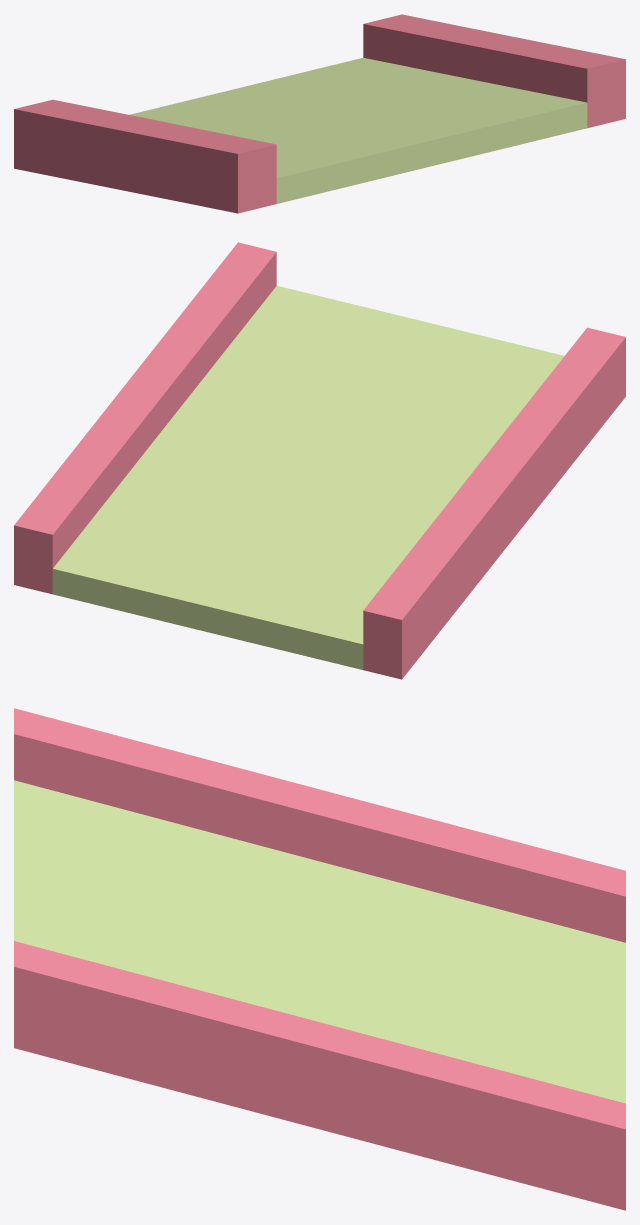
The model's file is rampB.fbx.
3 views of the same model, one above another, from view 1: azimuth 30°, elevation 25°; view 2: azimuth 150°, elevation 25°; view 3: azimuth 270°, elevation 25° (orthographic). The views are drawn at different scales.
Visible parts, largest first — view 1: rampB; view 2: rampB; view 3: rampB.
Boxes of the visible parts, x1,y1,x2,y2 form: rampB: [14, 14, 625, 213]; rampB: [14, 242, 625, 679]; rampB: [14, 708, 625, 1210].
Bounding box in the file's own units: 99.99 × 44 × 99.99.
